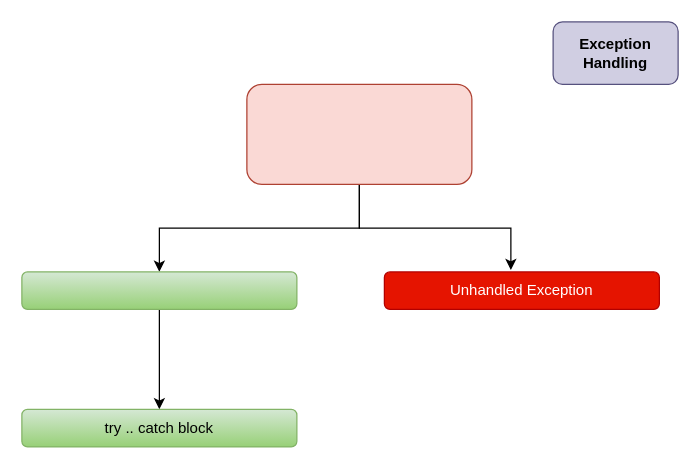
Some shapes in this 700 by 469 pixel diagram are drawn without their labels. Each missing label, with the centre of its shape:
"Exception : An abnormal condition when a program is running" belongs at pixel 359 133.
"Handled Exception" belongs at pixel 159 290.
